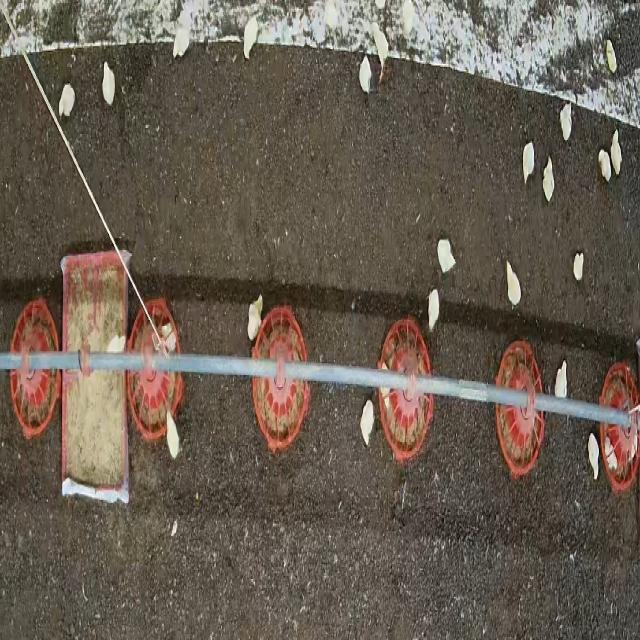broiler: (173, 9, 191, 57), (373, 22, 388, 79), (506, 260, 521, 305), (243, 16, 258, 58), (247, 295, 261, 339), (360, 400, 374, 444), (437, 240, 455, 272), (102, 61, 115, 104), (167, 411, 179, 457), (587, 433, 599, 478), (542, 156, 554, 201), (58, 83, 74, 116), (611, 129, 622, 174), (522, 141, 534, 180), (428, 289, 439, 330), (359, 55, 371, 92), (598, 149, 611, 182), (560, 103, 571, 140), (555, 360, 566, 394), (573, 252, 583, 280)
pipe: (88, 351, 277, 380), (282, 360, 412, 390), (414, 375, 529, 403), (535, 394, 630, 426), (28, 351, 83, 371), (0, 353, 23, 369)
rice: (61, 252, 128, 497), (251, 305, 310, 451), (10, 299, 61, 438), (494, 341, 544, 478), (378, 387, 433, 463), (125, 371, 183, 439), (378, 316, 430, 378), (599, 424, 639, 491), (600, 360, 639, 409), (148, 298, 178, 350), (127, 308, 157, 353)
